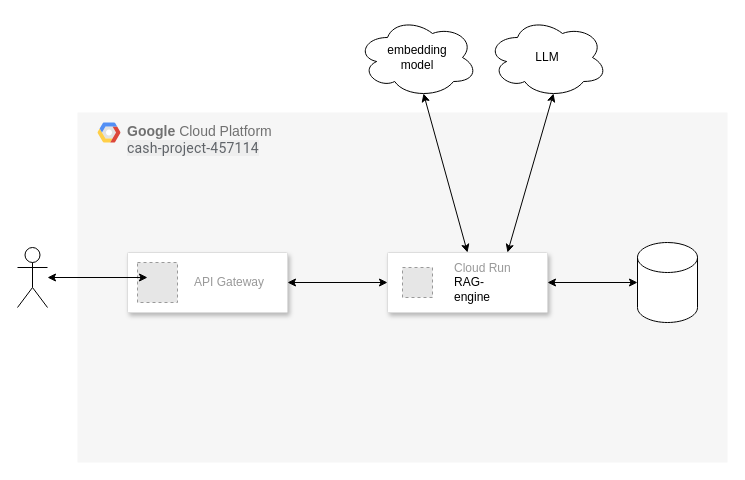
Image size: 745x480. Some labels were removed from this diagram. Grey dashed boxes stand in for pictures. The shapes that lost their labels are listed below. From the top down, each one's centre as x and y in pixels, then its label:
At (32,277): "Actor".
At (667,282): "qdrant".
